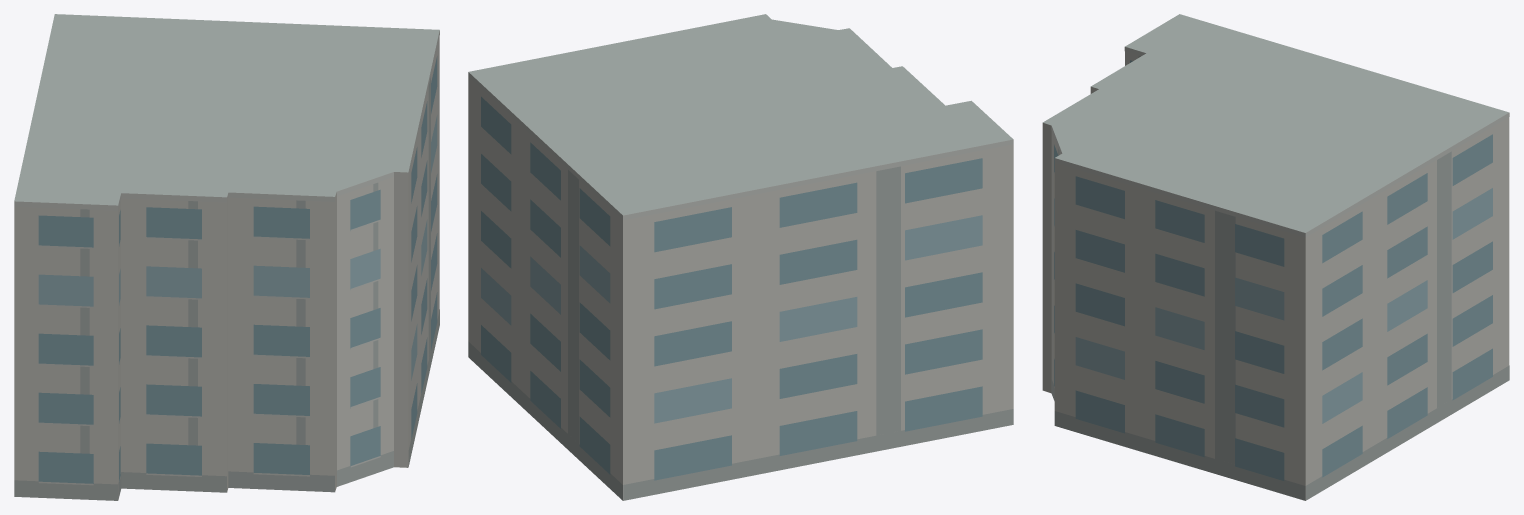
File: survey-upis-32554540.glb
The picture shows the model from 3 angles, left to right: view 1: azimuth 30°, elevation 25°; view 2: azimuth 150°, elevation 25°; view 3: azimuth 270°, elevation 25°; orthographic projection. The views are drawn at different scales.
Visible parts, largest first — view 1: survey-upis-32554540.tmp; view 2: survey-upis-32554540.tmp; view 3: survey-upis-32554540.tmp.
Boxes of the visible parts, left/top/right/bottom form: survey-upis-32554540.tmp: left=14, top=14, right=439, bottom=500; survey-upis-32554540.tmp: left=468, top=14, right=1013, bottom=500; survey-upis-32554540.tmp: left=1042, top=14, right=1509, bottom=500.
Size of the model in its own units: 24.48 by 13.95 by 22.05.
